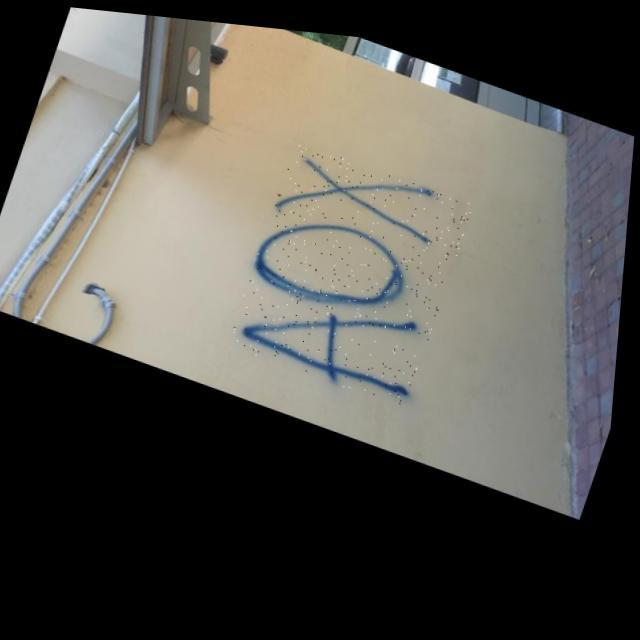-: (229, 130, 479, 403)
